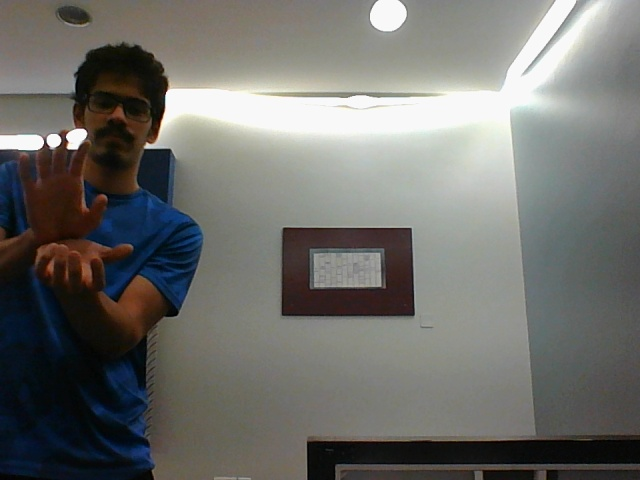blast: (14, 128, 136, 303)
